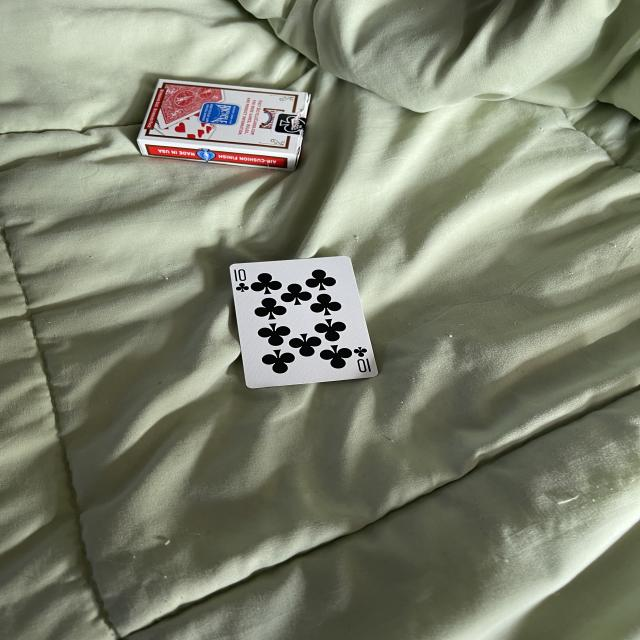10 of clubs: (219, 243, 384, 389)
